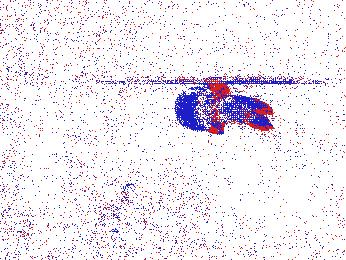flame jellyfish: (179, 84, 273, 133), (61, 193, 117, 241), (99, 182, 147, 236)
